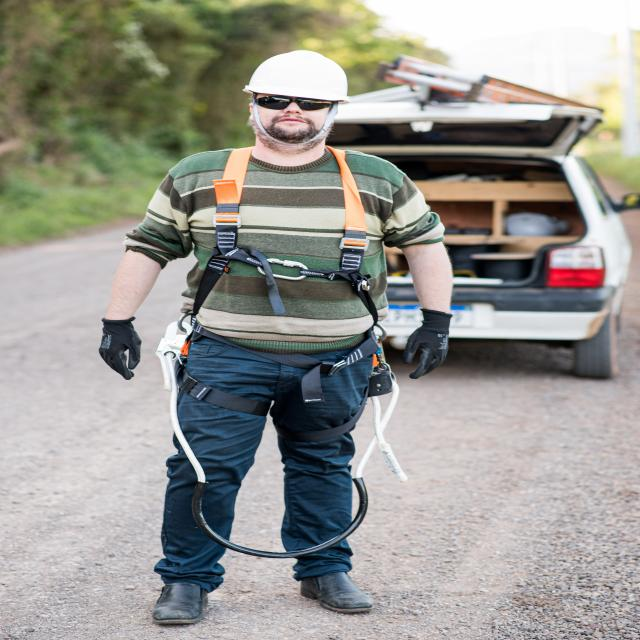botas: (292, 564, 379, 620), (147, 570, 214, 630)
capacete: (240, 47, 358, 106)
corda de vida: (164, 143, 401, 440)
luva: (90, 312, 150, 384), (400, 308, 455, 382)
